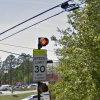Tree: (53, 15, 100, 98)
